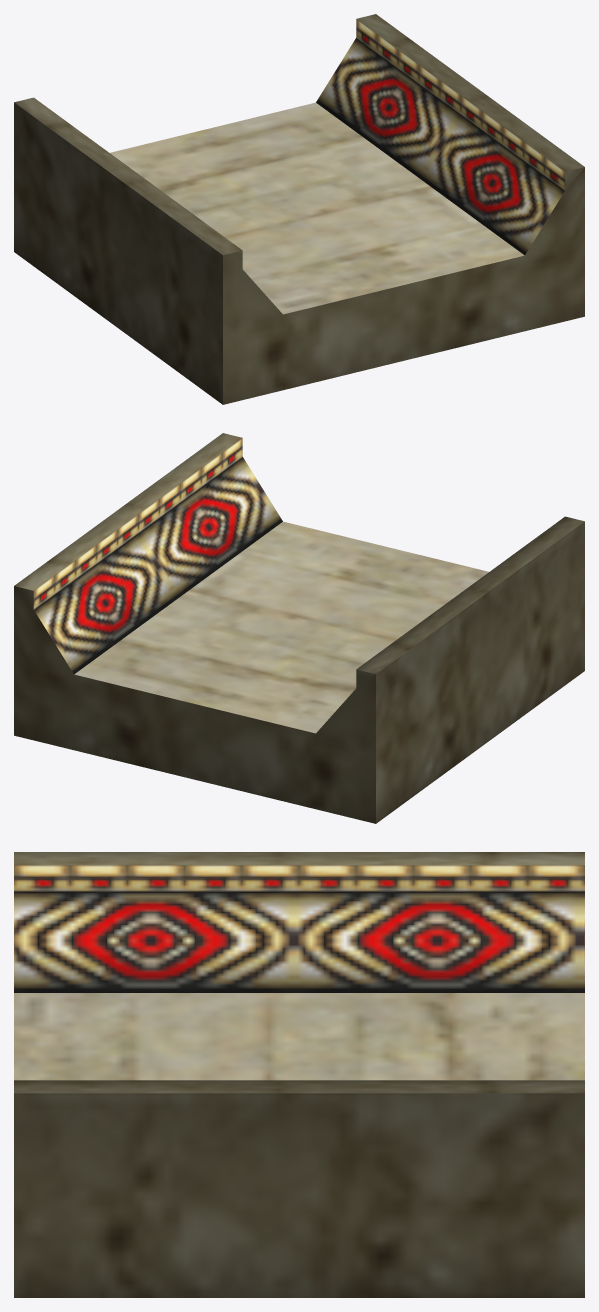
File: jun_tile_straight_static.obj
3 views of the same model, one above another, from view 1: azimuth 30°, elevation 25°; view 2: azimuth 150°, elevation 25°; view 3: azimuth 270°, elevation 25° (orthographic). The views are drawn at different scales.
Visible parts, largest first — view 1: tile_straight_static_new; view 2: tile_straight_static_new; view 3: tile_straight_static_new.
Part boxes in pixels (x1,y1,x2,y2): tile_straight_static_new: (14,14,584,404); tile_straight_static_new: (14,433,584,823); tile_straight_static_new: (14,852,584,1297).
Size of the model in its own units: 1 by 0.395 by 1.
Materials: 1 (1 with a texture image).
